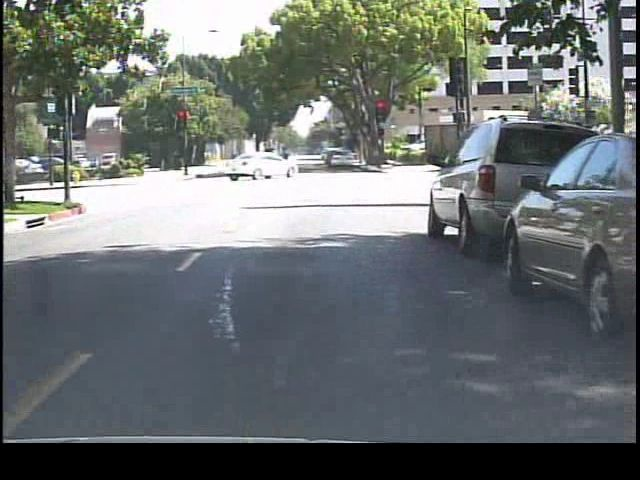person: (279, 141, 295, 174)
